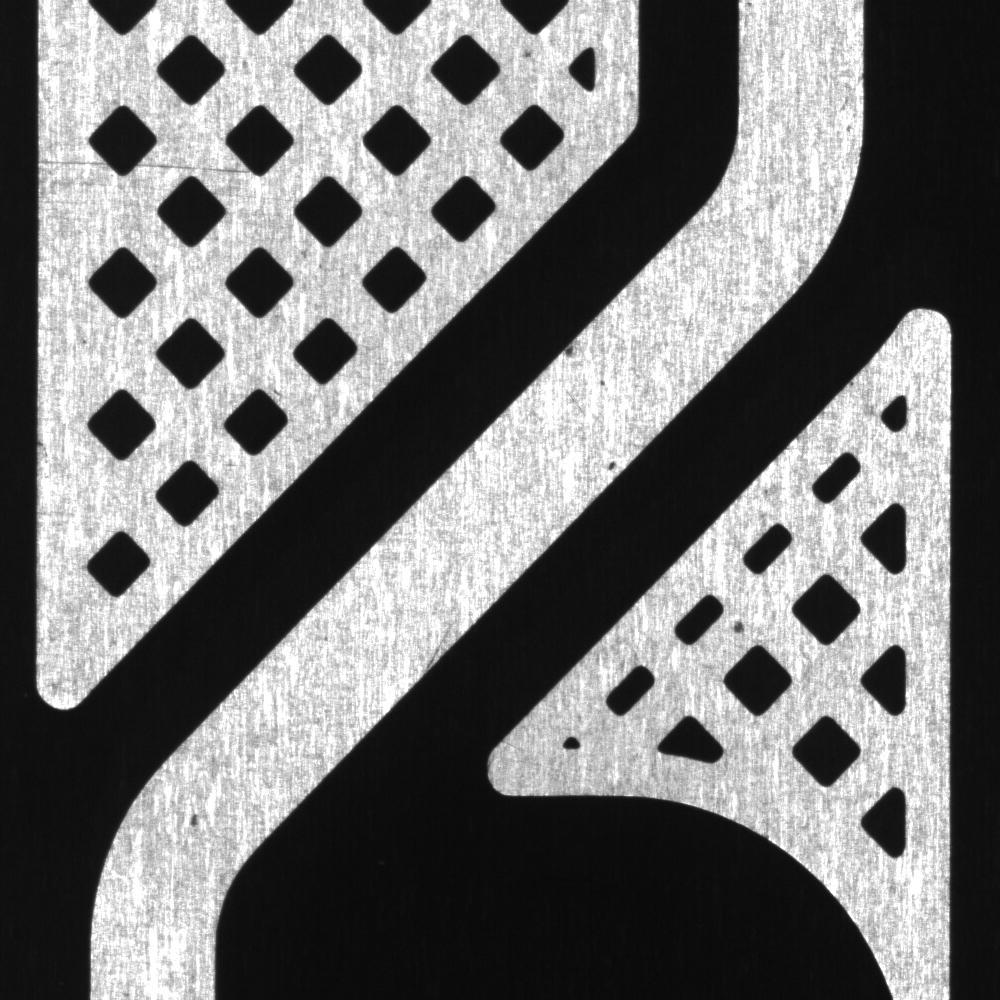Etching: (178, 797, 222, 840), (548, 334, 588, 377), (591, 444, 631, 487)
Scar: (42, 144, 249, 201), (670, 277, 721, 359), (410, 610, 458, 672)
